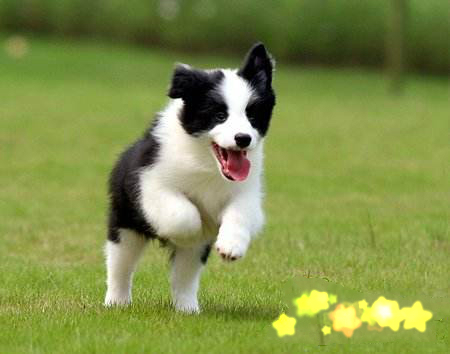dog: (105, 41, 277, 315)
star: (270, 288, 436, 337)
